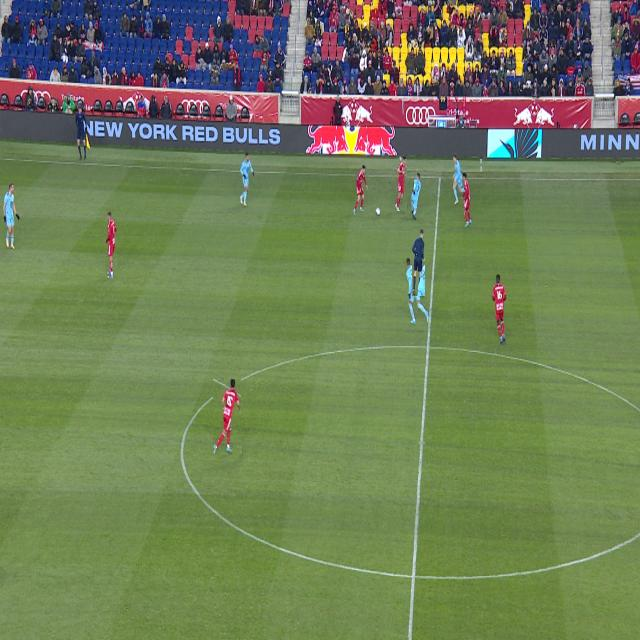football: (376, 207, 380, 216)
player: (214, 379, 241, 455), (406, 258, 429, 324), (3, 183, 20, 249), (492, 274, 506, 343), (105, 212, 117, 278), (353, 165, 368, 216), (240, 152, 254, 206), (450, 154, 464, 204), (395, 156, 407, 212), (461, 172, 472, 227), (411, 173, 421, 220)
referee: (412, 230, 425, 296)
